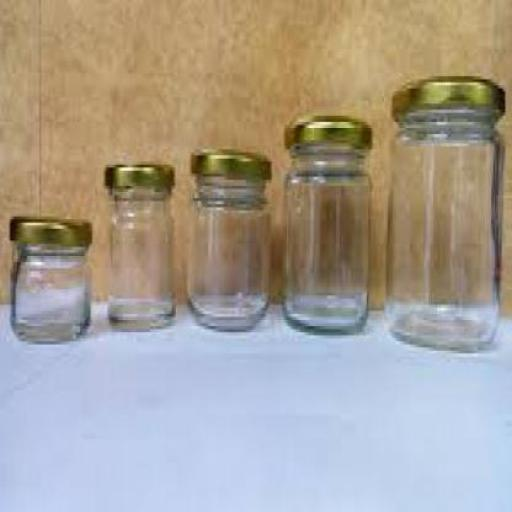glass: (384, 110, 502, 350), (280, 146, 370, 332), (184, 170, 268, 330), (105, 186, 174, 324), (8, 240, 88, 338)
metal: (389, 74, 503, 116), (282, 110, 370, 146), (7, 213, 89, 244), (190, 146, 270, 174), (102, 162, 172, 184)
